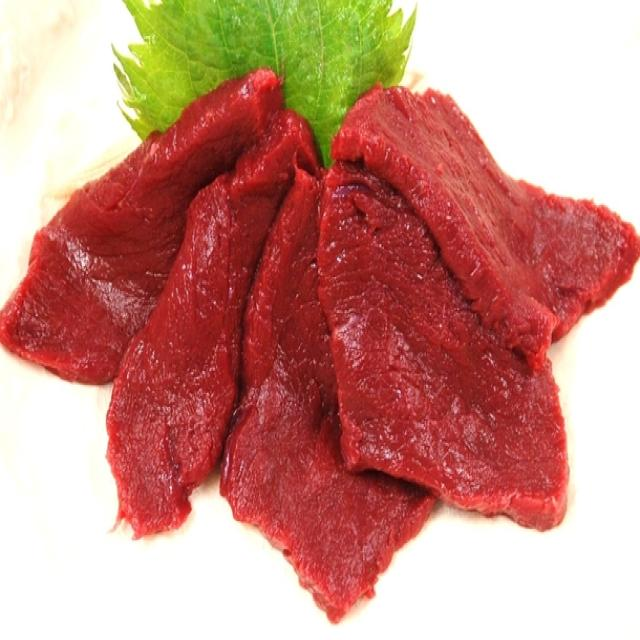刺身生食: (9, 34, 636, 622)
